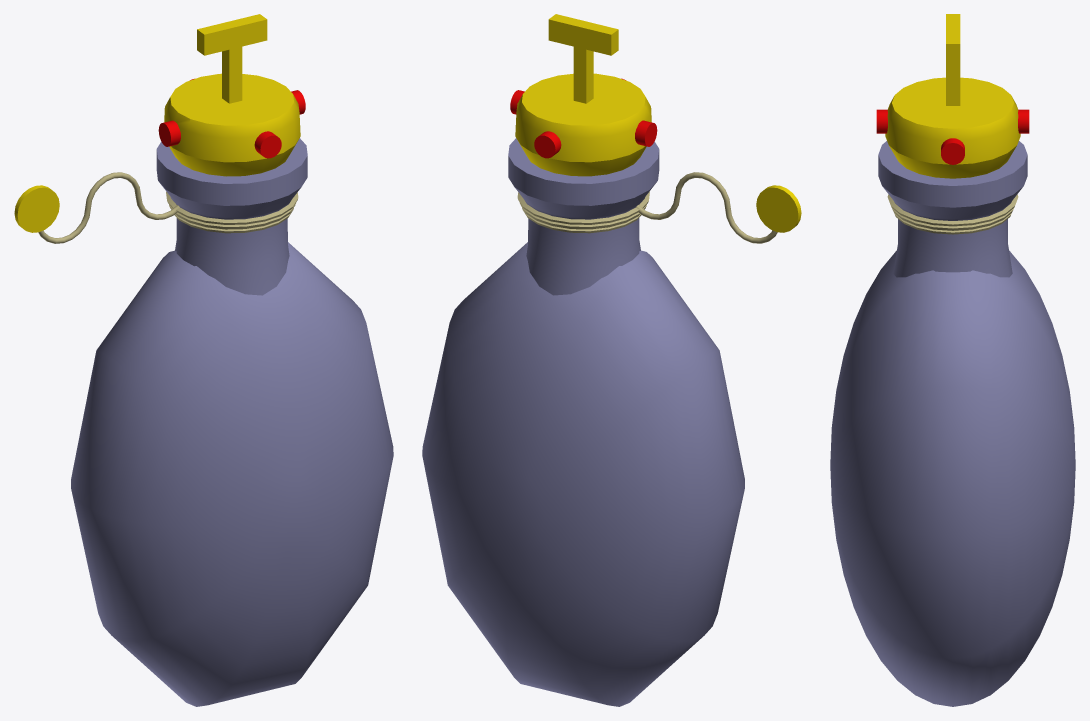
Rendered from Bottled Lightning.fbx.
The picture shows the model from 3 angles, left to right: view 1: azimuth 30°, elevation 25°; view 2: azimuth 150°, elevation 25°; view 3: azimuth 270°, elevation 25°; orthographic projection.
Visible parts, largest first — view 1: pCylinder3, pCylinder7, pCylinder9, polySurface6; view 2: pCylinder3, pCylinder7, pCylinder9, polySurface6; view 3: pCylinder3, pCylinder7.
Boxes of the visible parts, box(x1,y1,x2,y2) form: pCylinder3: box(71, 138, 393, 706); pCylinder7: box(158, 14, 305, 176); pCylinder9: box(14, 185, 59, 232); polySurface6: box(38, 172, 179, 243); pCylinder3: box(422, 138, 744, 706); pCylinder7: box(510, 14, 657, 176); pCylinder9: box(756, 185, 801, 232); polySurface6: box(636, 172, 777, 243); pCylinder3: box(830, 141, 1075, 706); pCylinder7: box(876, 14, 1029, 178).
Size of the model in its own units: 1.52 by 2.65 by 0.8989.
